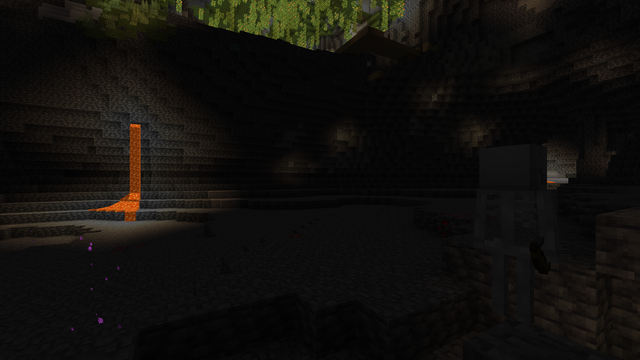squelettes: (472, 143, 555, 336)
